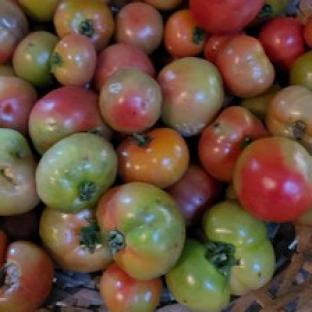Tomato: (97, 183, 185, 279), (202, 201, 275, 295), (233, 136, 311, 222), (37, 133, 116, 213), (28, 85, 112, 154), (198, 106, 268, 182), (158, 58, 224, 136), (39, 207, 112, 272), (165, 239, 229, 311), (116, 127, 189, 188), (99, 67, 162, 133), (0, 240, 54, 311), (166, 162, 224, 228), (216, 34, 275, 97), (0, 129, 38, 215), (267, 85, 311, 153), (92, 44, 155, 91), (99, 264, 162, 311), (258, 17, 306, 72), (115, 2, 164, 54), (13, 31, 58, 87), (51, 34, 97, 86), (0, 76, 37, 135), (163, 9, 206, 58), (240, 84, 281, 122), (0, 207, 40, 242), (202, 33, 240, 64), (289, 51, 311, 89), (0, 228, 8, 267), (303, 14, 311, 48), (0, 63, 15, 76)
